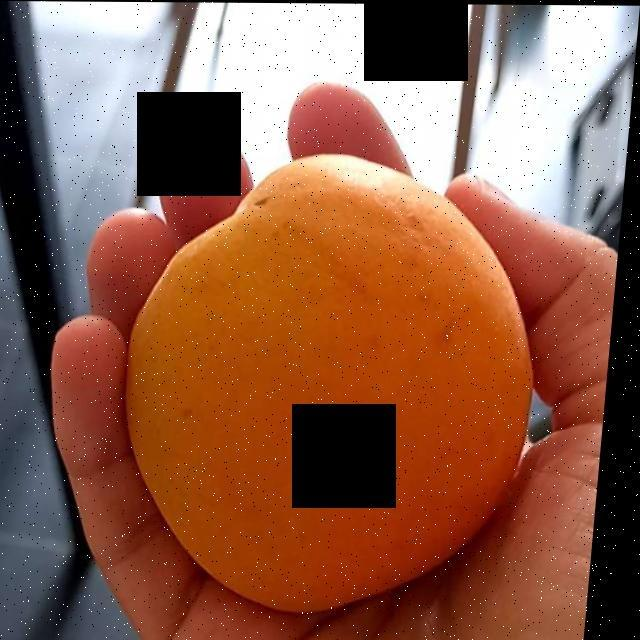apricots: (137, 157, 533, 598)
